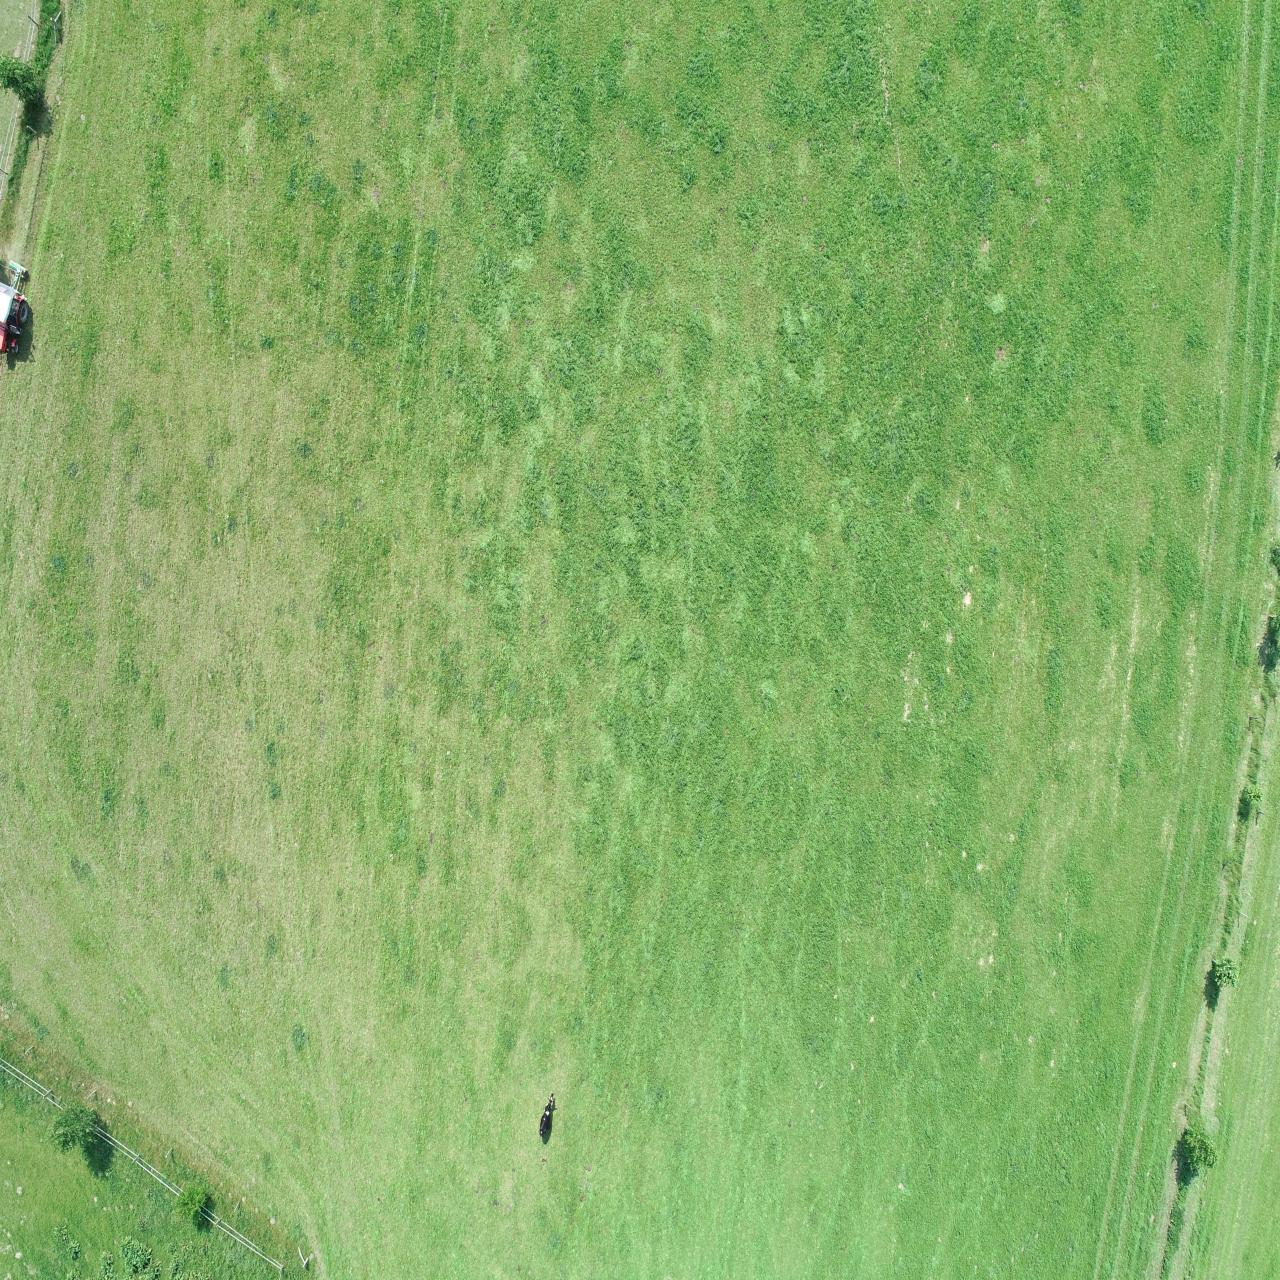cow: (538, 1088, 556, 1140)
